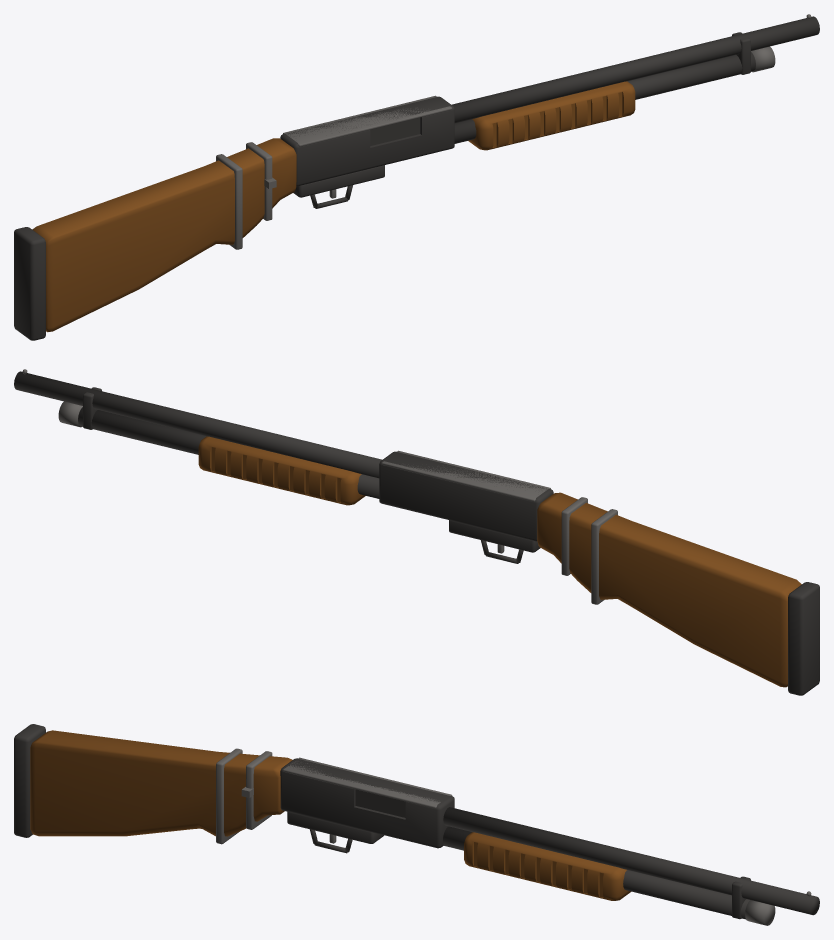
Rendered from gun_shotgun_b.glb.
3 views of the same model, one above another, from view 1: azimuth 30°, elevation 25°; view 2: azimuth 150°, elevation 25°; view 3: azimuth 330°, elevation 25° (orthographic).
Visible parts, largest first — view 1: stock, receiver, barrel, forend, pad, mag_tube, receiver_wear, trigger_plate, clamp_1, clamp_0; view 2: stock, receiver, barrel, forend, pad, mag_tube, receiver_wear, trigger_plate, clamp_1, clamp_0; view 3: stock, receiver, barrel, forend, mag_tube, pad, receiver_wear, trigger_plate, clamp_1, clamp_0, mag_cap, barrel_ring.
Boxes of the visible parts, x1,y1,x2,y2 form: stock: (32, 138, 296, 332); receiver: (280, 96, 454, 186); barrel: (452, 16, 819, 123); forend: (468, 81, 635, 150); pad: (14, 227, 45, 340); mag_tube: (454, 52, 755, 143); receiver_wear: (283, 95, 452, 146); trigger_plate: (293, 165, 384, 197); clamp_1: (216, 154, 242, 249); clamp_0: (246, 142, 272, 220); stock: (537, 492, 801, 687); receiver: (379, 451, 553, 541); barrel: (14, 371, 381, 478); forend: (198, 436, 365, 505); pad: (788, 582, 819, 695); mag_tube: (78, 407, 379, 498); receiver_wear: (381, 450, 550, 501); trigger_plate: (449, 520, 540, 552); clamp_1: (591, 509, 617, 604); clamp_0: (561, 497, 587, 575); stock: (30, 730, 292, 836); receiver: (280, 758, 454, 848); barrel: (443, 807, 819, 915); forend: (464, 832, 631, 900); mag_tube: (443, 826, 749, 919); pad: (14, 724, 45, 837); receiver_wear: (283, 757, 452, 808); trigger_plate: (287, 811, 383, 843); clamp_1: (216, 748, 242, 844); clamp_0: (246, 751, 272, 829); mag_cap: (745, 900, 775, 925); barrel_ring: (732, 876, 750, 919).
Size of the model in its own units: 1.01 by 0.16 by 0.053.
